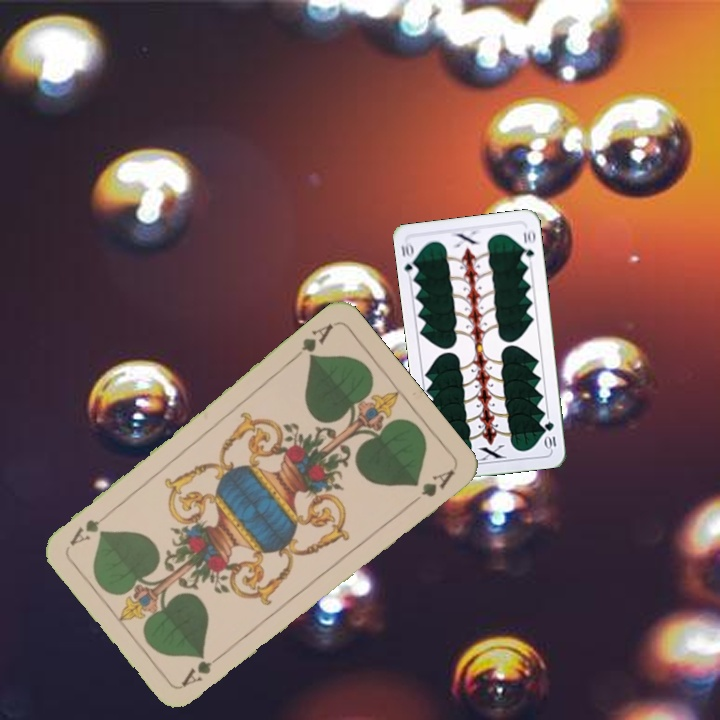G10: (397, 238, 420, 279), (541, 417, 559, 452)
GA: (177, 647, 229, 690), (288, 319, 336, 363)
